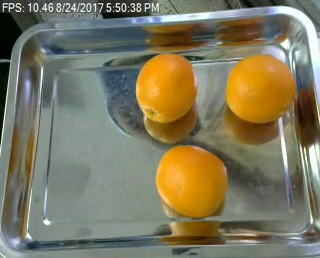Orange: (153, 143, 228, 217), (226, 54, 298, 122), (134, 52, 197, 122)
